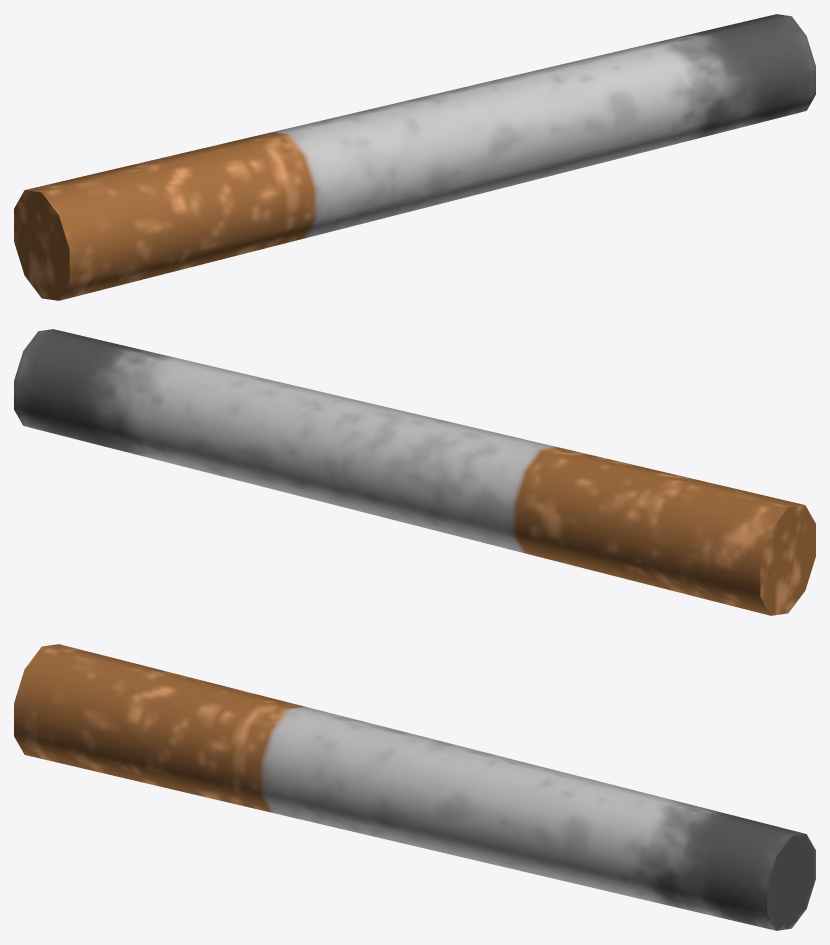
The model's file is SM_Cigarette_02.fbx.
3 renders of one model, top to bottom at view 1: azimuth 30°, elevation 25°; view 2: azimuth 150°, elevation 25°; view 3: azimuth 330°, elevation 25°, orthographic.
Parts seen in each view (by area): view 1: SM_Cigarette_02_LOD0; view 2: SM_Cigarette_02_LOD0; view 3: SM_Cigarette_02_LOD0.
Part boxes in pixels (x1,y1,x2,y2): SM_Cigarette_02_LOD0: (14,14,815,300); SM_Cigarette_02_LOD0: (14,329,815,615); SM_Cigarette_02_LOD0: (14,644,815,930).
Size of the model in its own units: 5.74 by 0.7368 by 0.7747.
1 material, 1 textured.
